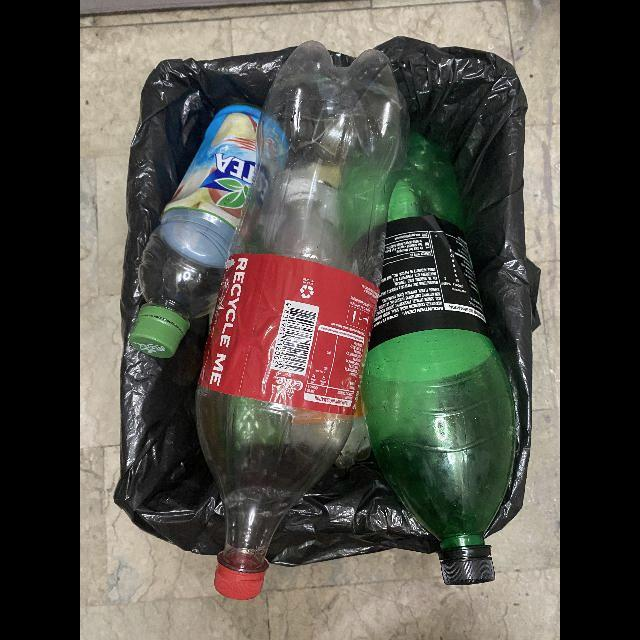plastic_bottle: (194, 43, 411, 603), (361, 133, 518, 587), (129, 106, 261, 360)
